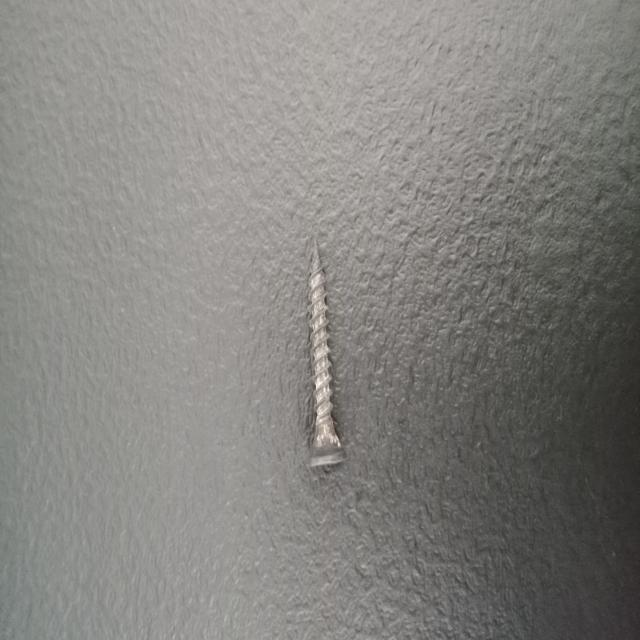screw: (304, 239, 348, 467)
